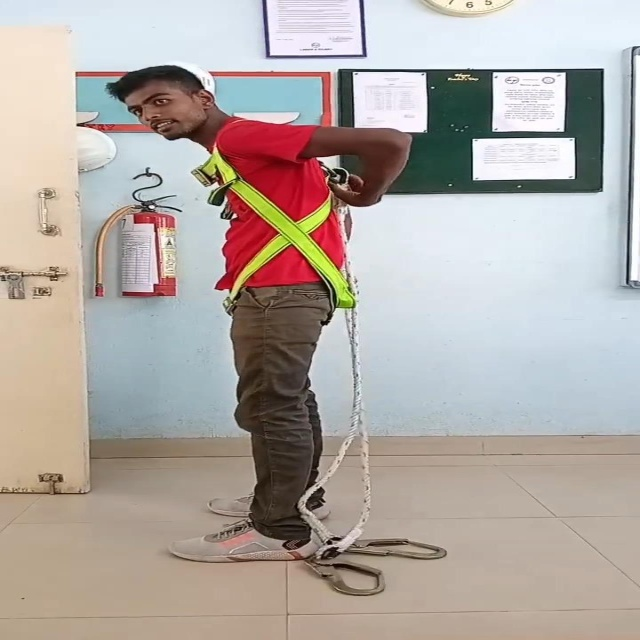Arnes_seguridad: (181, 123, 370, 341)
